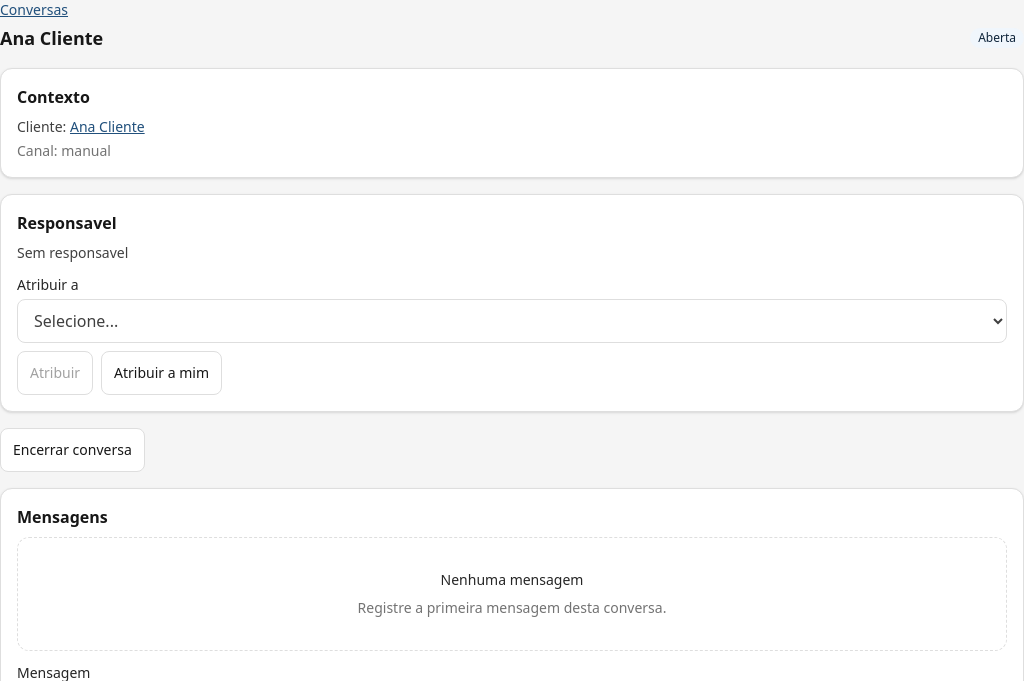
ConversationDetailPage › erro 422 de responsavel inelegivel e explicado
What coordinates should you click on to do the following:
click the button "Atribuir a mim"
I would click on:
 (162, 373)
Its box is [101,351,222,395].
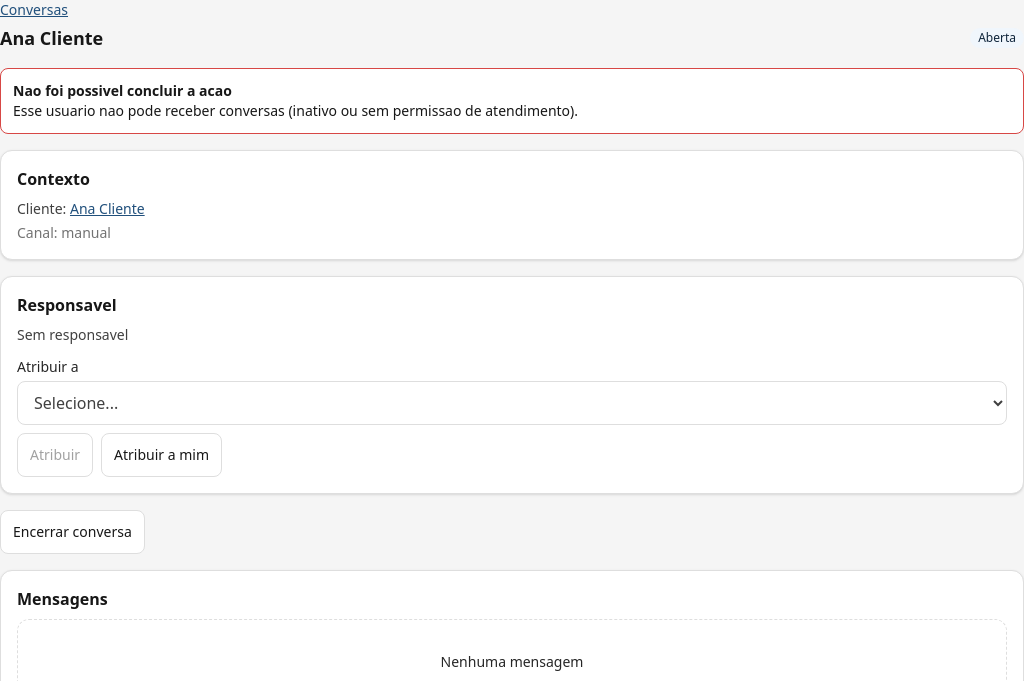
Expected: the text "nao pode receber conversas" is shown, [13,101,578,120]
